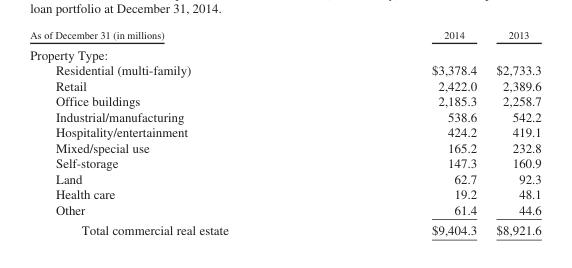table: (29, 28, 540, 237)
table column: (29, 28, 329, 237), (329, 28, 485, 237), (485, 28, 540, 237)
table column header: (29, 28, 540, 43)
table projected row header: (29, 43, 540, 61)
table row: (29, 43, 540, 61), (29, 201, 540, 219), (29, 219, 540, 237), (29, 61, 540, 77), (29, 92, 540, 108), (29, 123, 540, 139), (29, 154, 540, 170), (29, 185, 540, 201), (29, 28, 540, 43), (29, 77, 540, 92), (29, 108, 540, 123), (29, 139, 540, 154), (29, 170, 540, 185)
